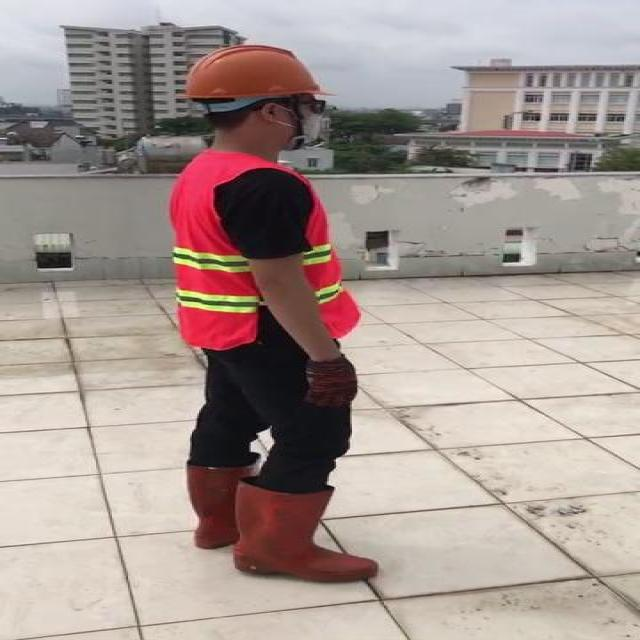boots: (238, 478, 377, 583), (186, 463, 258, 551)
hand_glove: (306, 357, 357, 406)
head_helmet: (160, 39, 404, 584), (169, 42, 332, 100)
vest: (171, 152, 361, 345)
